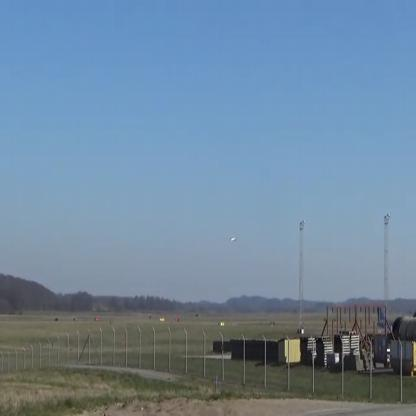CIV_Plane: (230, 234, 237, 244)
